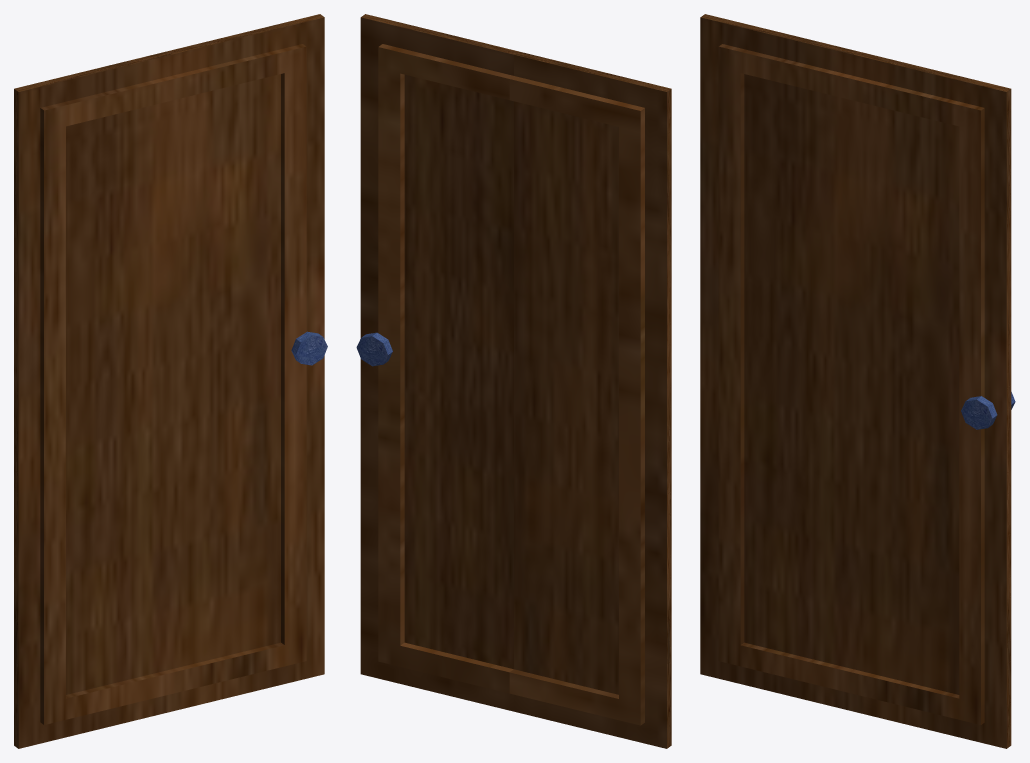
Rendered from Door_Office.fbx.
The picture shows the model from 3 angles, left to right: view 1: azimuth 30°, elevation 25°; view 2: azimuth 150°, elevation 25°; view 3: azimuth 330°, elevation 25°; orthographic projection.
Visible parts, largest first — view 1: puerta, pomo2.002; view 2: puerta, pomo.002; view 3: puerta, pomo2.002.
Part boxes in pixels (box(x1,y1,x2,y2)): puerta: box(14, 14, 324, 748); pomo2.002: box(291, 331, 327, 365); puerta: box(360, 14, 671, 748); pomo.002: box(356, 332, 392, 366); puerta: box(700, 14, 1011, 748); pomo2.002: box(961, 396, 997, 429).
Bounding box in the file's own units: 959 × 1967 × 125.
Materials: 3 (3 with a texture image).
